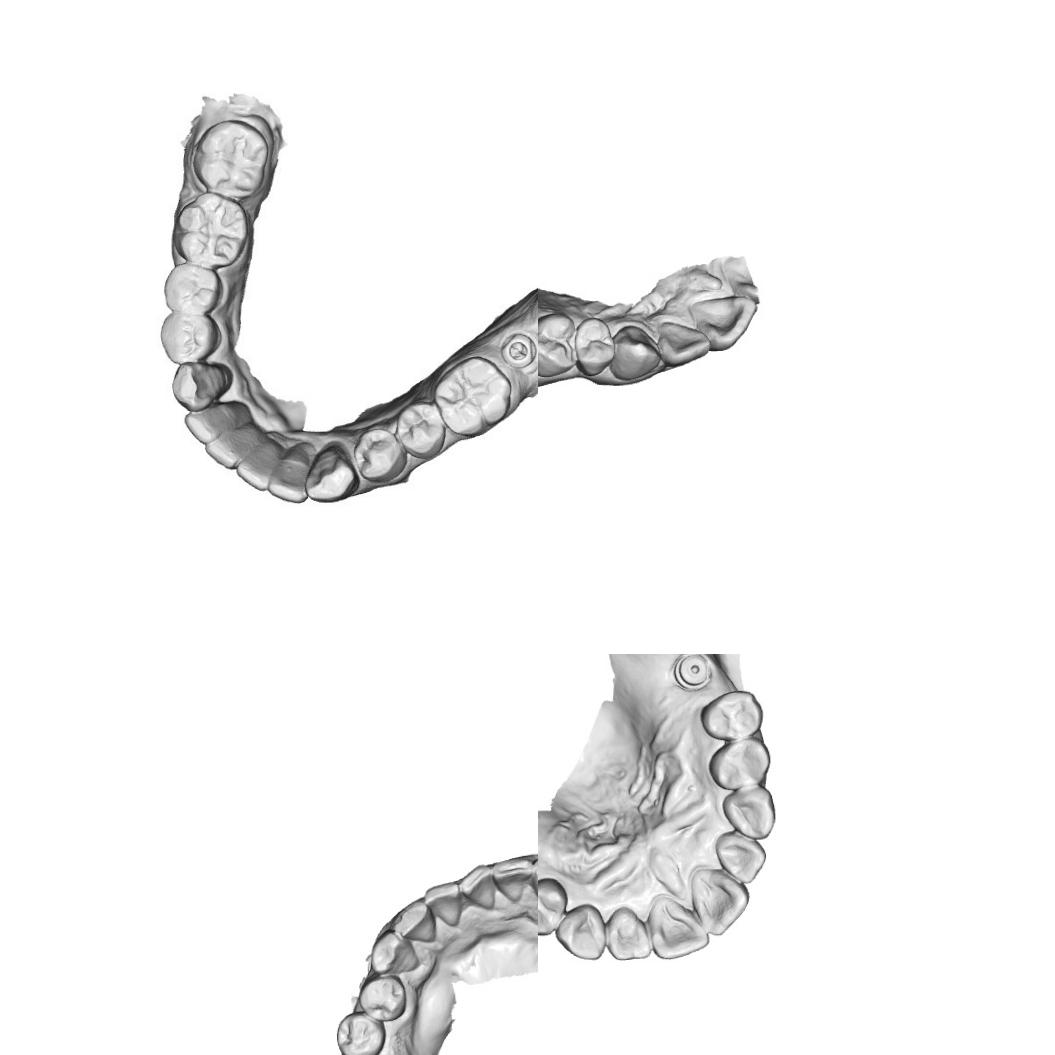canine: (302, 436, 360, 504), (167, 362, 231, 411), (554, 902, 606, 962), (722, 784, 776, 841), (609, 324, 662, 381), (368, 928, 420, 975)
implant: (499, 326, 538, 372), (672, 654, 713, 693)
incisor: (645, 892, 710, 961), (689, 865, 751, 937), (688, 294, 760, 352), (200, 424, 264, 472), (604, 903, 654, 963), (714, 828, 767, 884), (264, 442, 310, 505), (182, 404, 247, 446), (656, 319, 712, 367), (234, 439, 282, 493), (392, 899, 438, 944), (456, 864, 498, 912), (492, 857, 534, 905), (422, 880, 463, 929)
molar: (432, 353, 514, 440), (191, 117, 270, 200), (176, 190, 250, 270)
premolar: (708, 735, 773, 793), (160, 260, 224, 317), (158, 311, 223, 365), (350, 426, 410, 484), (698, 688, 764, 740), (392, 400, 448, 458), (574, 316, 617, 378), (538, 311, 576, 379), (356, 974, 408, 1022), (333, 1010, 386, 1055), (538, 876, 569, 937)
